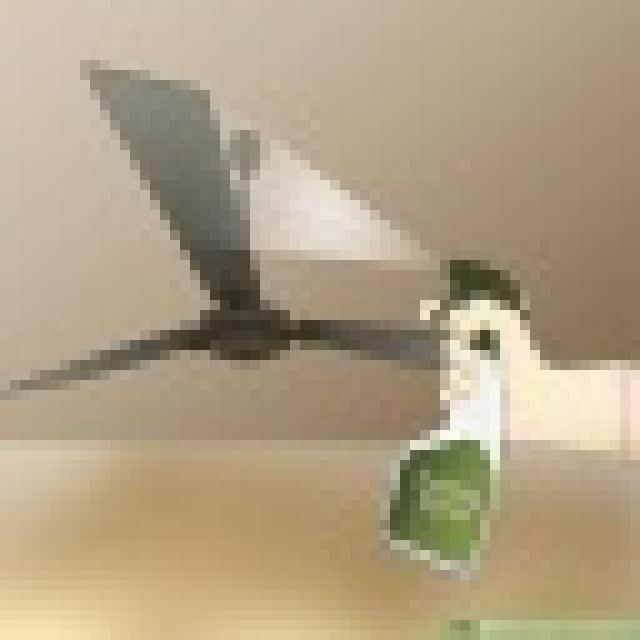Bulb: (27, 50, 471, 415)
